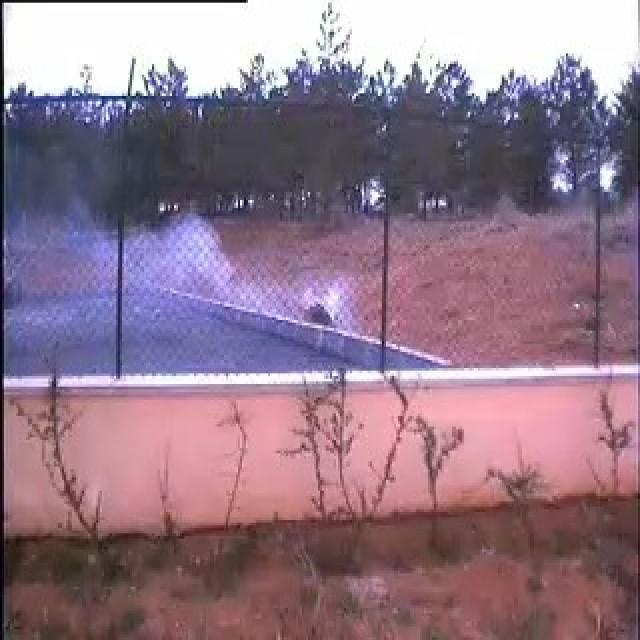smoke: (56, 178, 350, 360)
